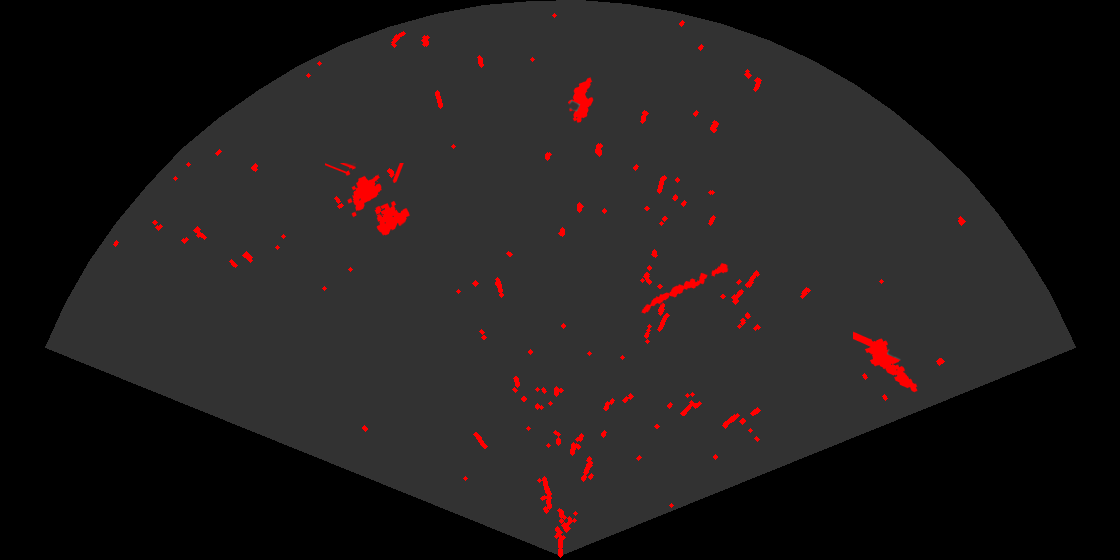AUV: (566, 76, 595, 124)
cage: (325, 163, 411, 237)
chain: (640, 262, 730, 315)
frogman: (853, 330, 919, 394)
